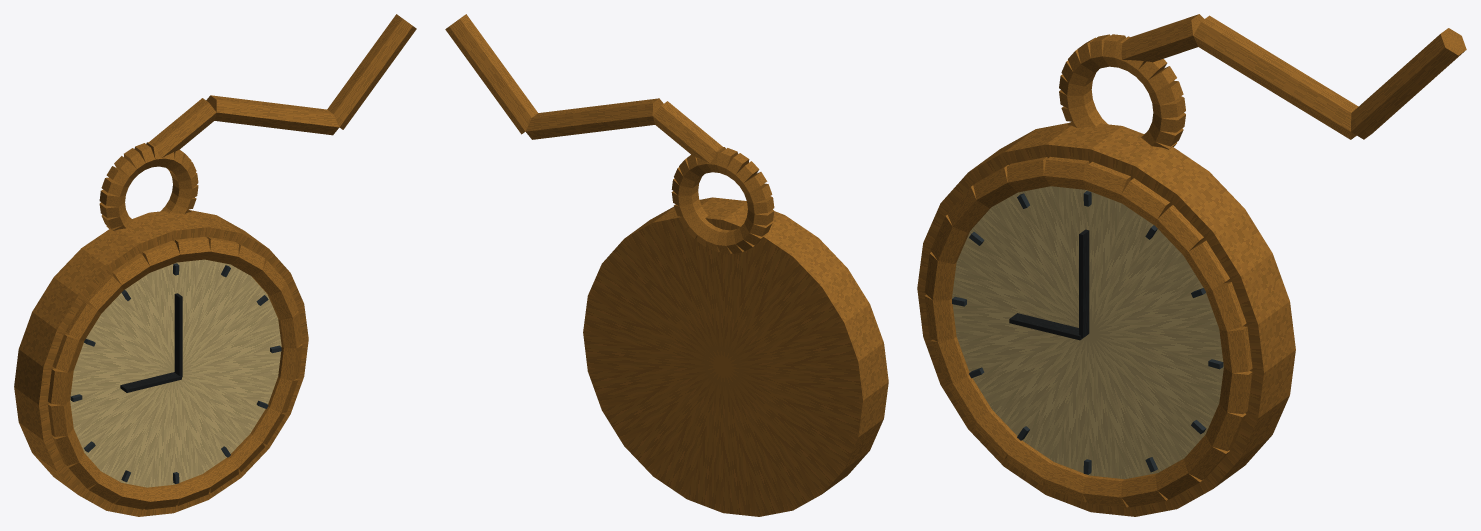
Rendered from SM_salazar_pocket_watch.gltf.
3 renders of one model, left to right at view 1: azimuth 30°, elevation 25°; view 2: azimuth 150°, elevation 25°; view 3: azimuth 330°, elevation 25°, orthographic. The views are drawn at different scales.
Visible parts, largest first — view 1: root, watch_hands; view 2: root; view 3: root, watch_hands.
Boxes of the visible parts, left/top/right/bottom form: root: left=14, top=14, right=416, bottom=516; watch_hands: left=120, top=293, right=182, bottom=392; root: left=445, top=14, right=888, bottom=516; root: left=917, top=14, right=1466, bottom=516; watch_hands: left=1009, top=229, right=1089, bottom=340.
Bounding box in the file's own units: 0.6515 × 0.6506 × 0.111.
Materials: 4 (4 with a texture image).
